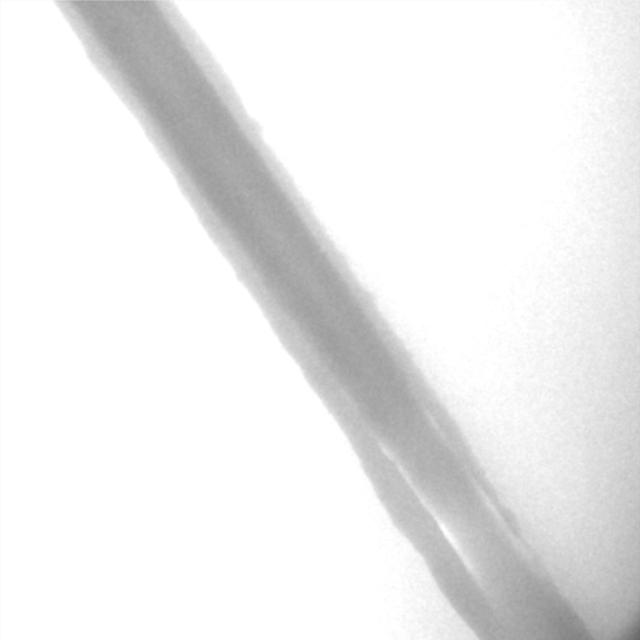unfused: (380, 408, 520, 584)
